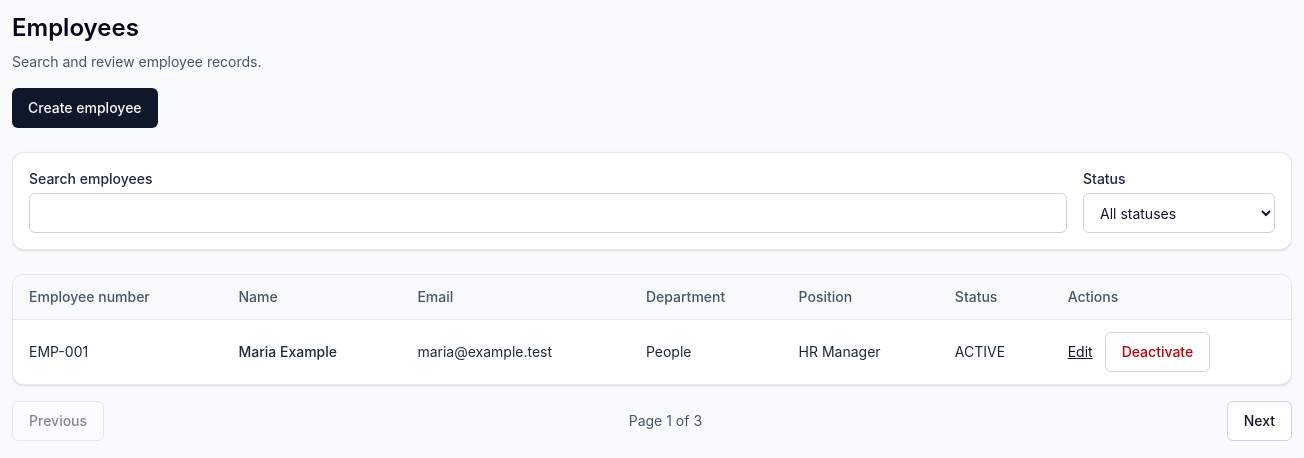
Test: EmployeeManagementPage › changes pages and resets page when filters change
Check: the row "EMP-001 Maria Example" is shown, box [13,320,1291,384]
Click the button with aria-label "Next page" at (1259, 421), box [1227,401,1292,441]
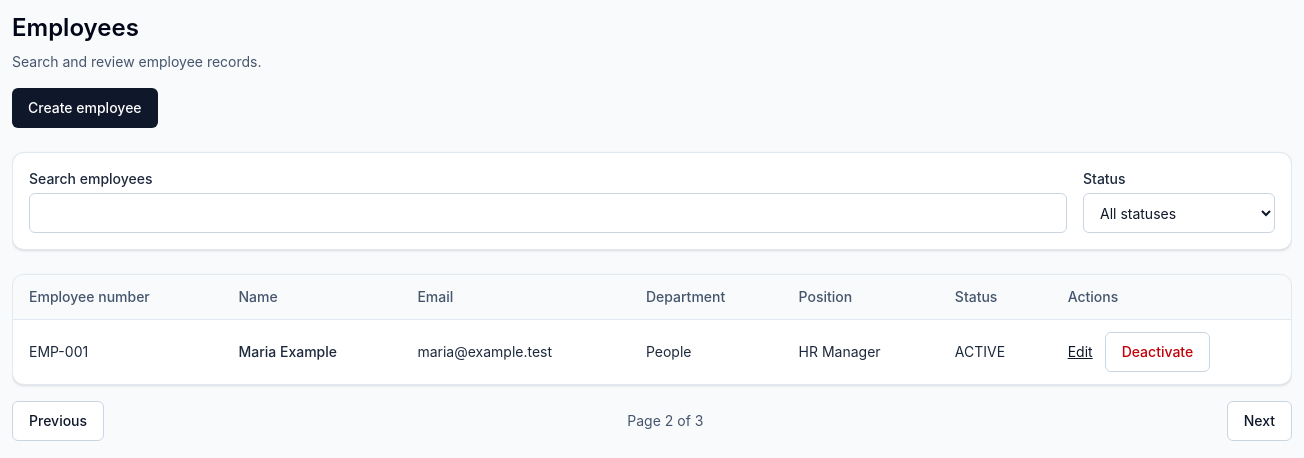
Check: the text "Page 2 of 3" is shown, box [627,411,704,431]
Type "Maria" into the search field labelled "Search employees" at (548, 213), box [29,193,1067,233]
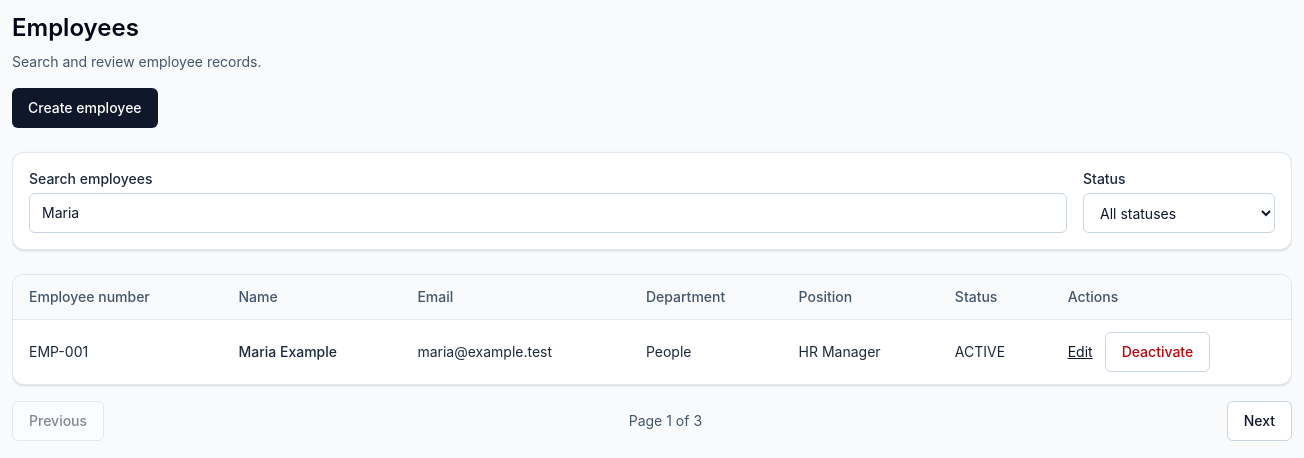
Check: the text "Page 1 of 3" is shown, box [629,411,702,431]
Click the button with aria-label "Next page" at (1259, 421), box [1227,401,1292,441]
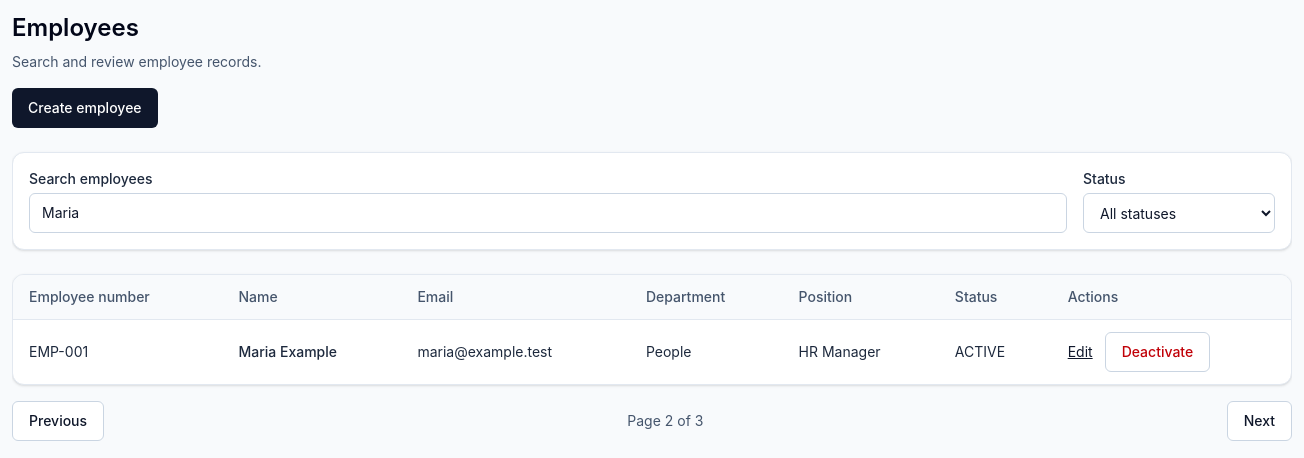
Check: the text "Page 2 of 3" is shown, box [627,411,704,431]
Select "Inactive" in the dropdown labelled "Status" at (1179, 213), box [1083,193,1275,233]
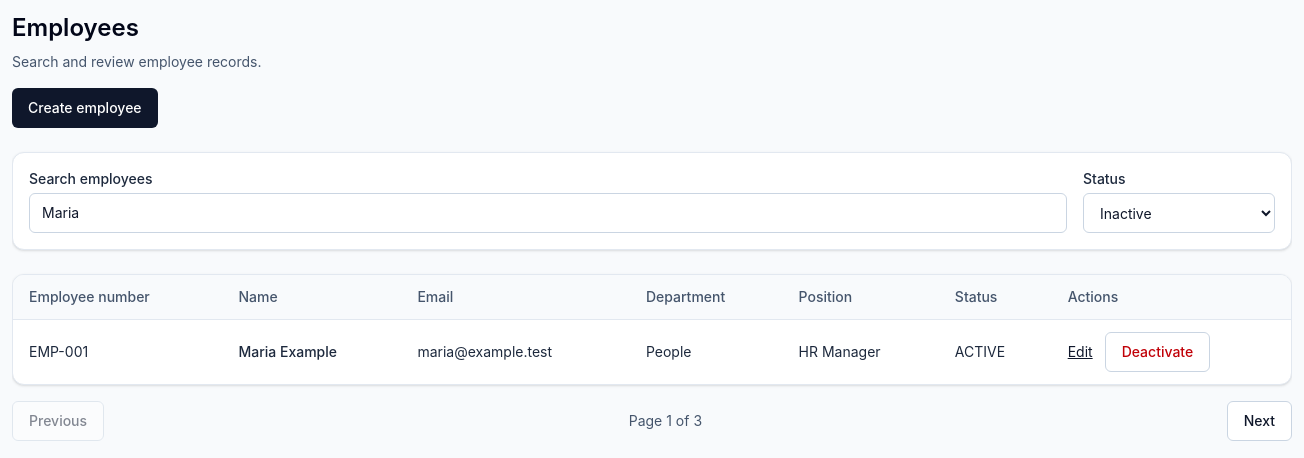
Check: the text "Page 1 of 3" is shown, box [629,411,702,431]
